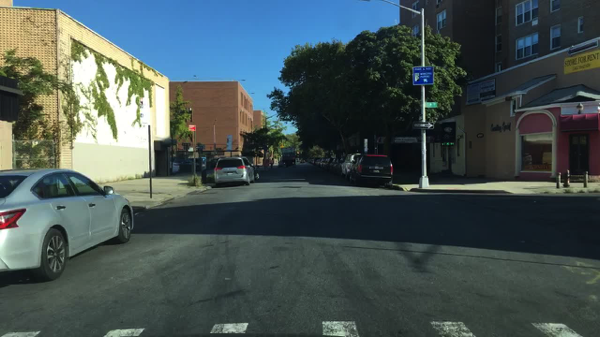car: (0, 168, 135, 280), (348, 155, 392, 189), (213, 156, 259, 185), (338, 153, 360, 179), (328, 154, 345, 175), (180, 161, 201, 171), (169, 162, 181, 175), (323, 157, 333, 170), (318, 159, 326, 169), (315, 158, 322, 167), (310, 157, 318, 164), (298, 157, 306, 164), (295, 154, 299, 162), (307, 156, 311, 163)
person: (270, 157, 274, 168)
traffic sign: (412, 66, 433, 86), (413, 123, 434, 130), (363, 138, 368, 153), (188, 124, 196, 132), (425, 102, 436, 107), (196, 145, 205, 149), (181, 143, 191, 145)
truck: (281, 147, 296, 167)
